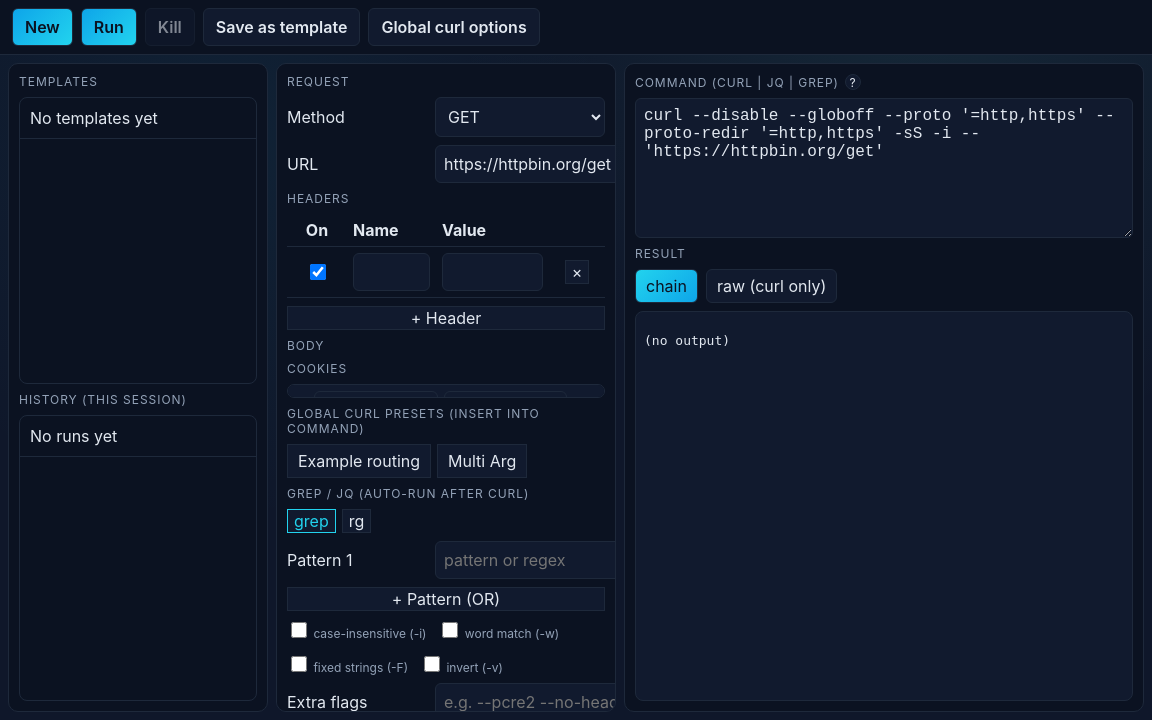
Test case: settings save recovery › reports a failed settings save and retries the values kept in the window
Expected: the button "Example routing" is shown, [287, 444, 431, 478]
Click the button "Global curl options" at x=454, y=27, box [368, 8, 540, 46]
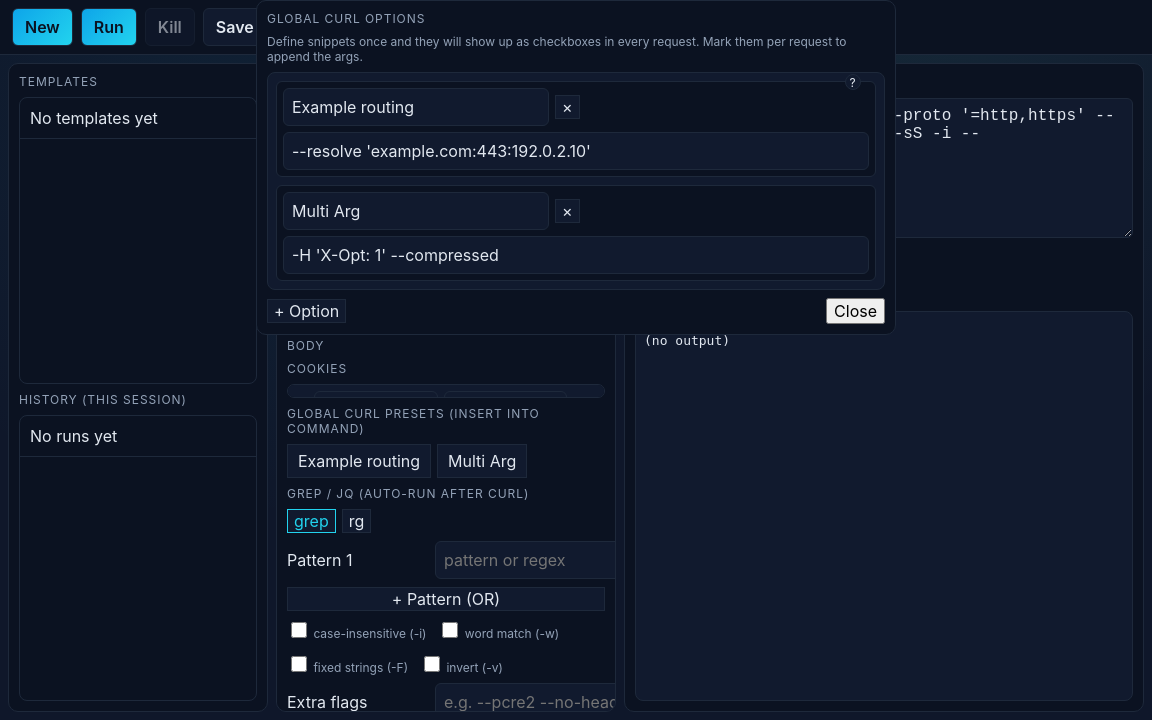
Replace the text in the field named "Preset 1 label" with "Retryable preset" at x=416, y=107, box [283, 88, 549, 126]
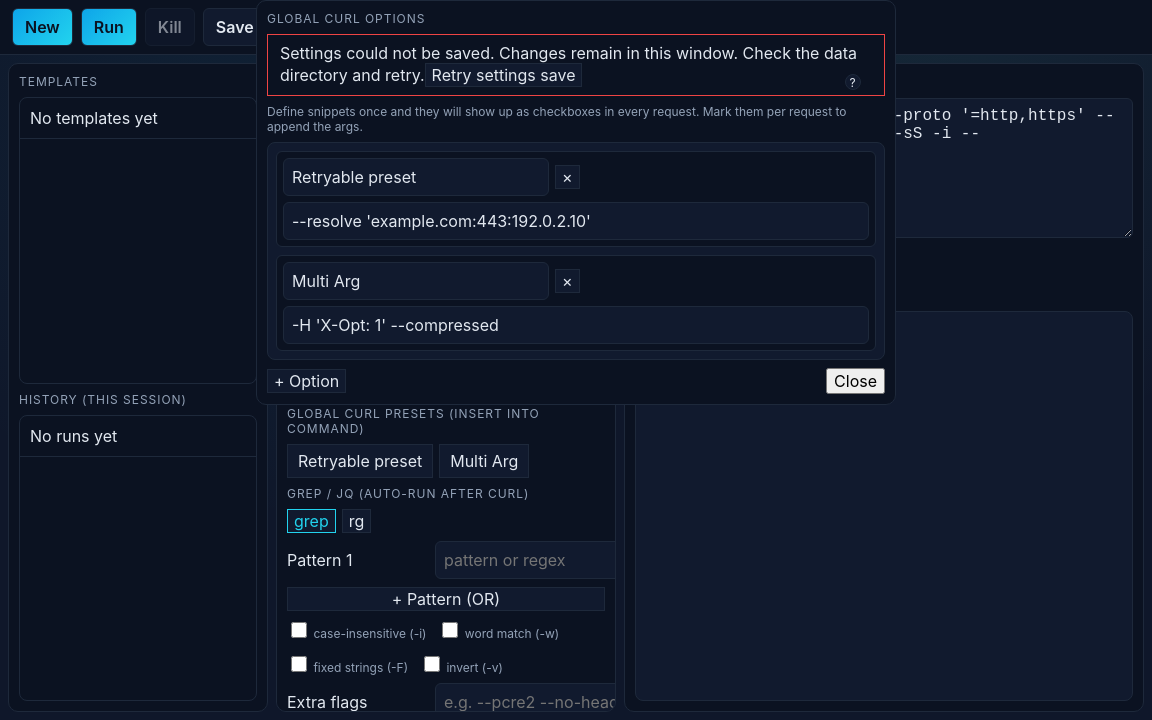
Expected: the message shows "Settings could not be saved", [280, 43, 857, 85]
Click the button "Retry settings save" at x=504, y=75, box [425, 63, 582, 87]
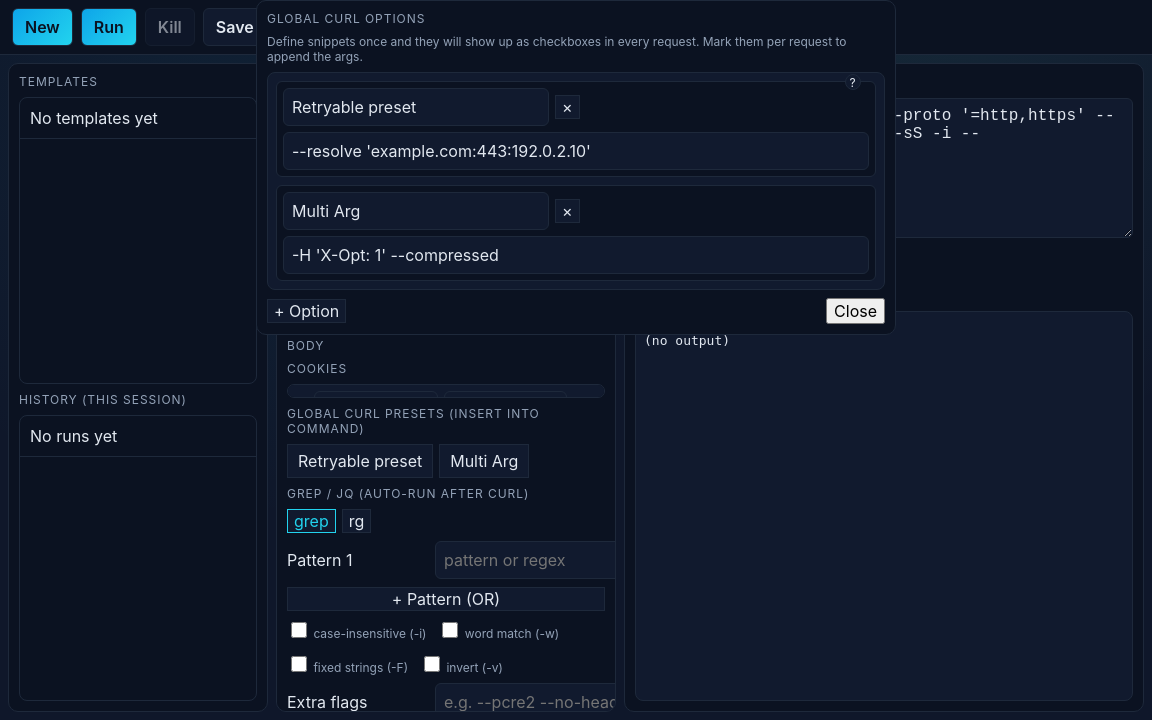
Expected: the message is gone
